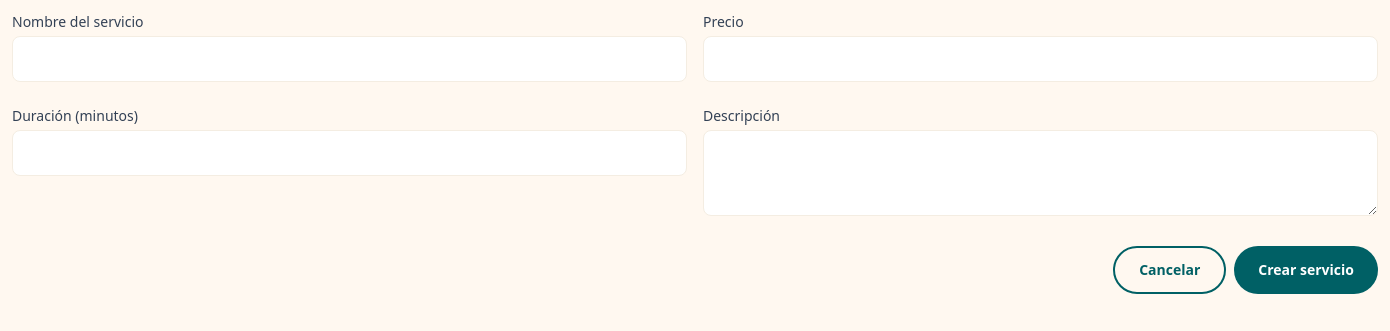
Scenario: ServiceForm › shows validation errors for empty required fields
Click the button "Crear servicio": (1306, 270) [1234,246,1378,294]
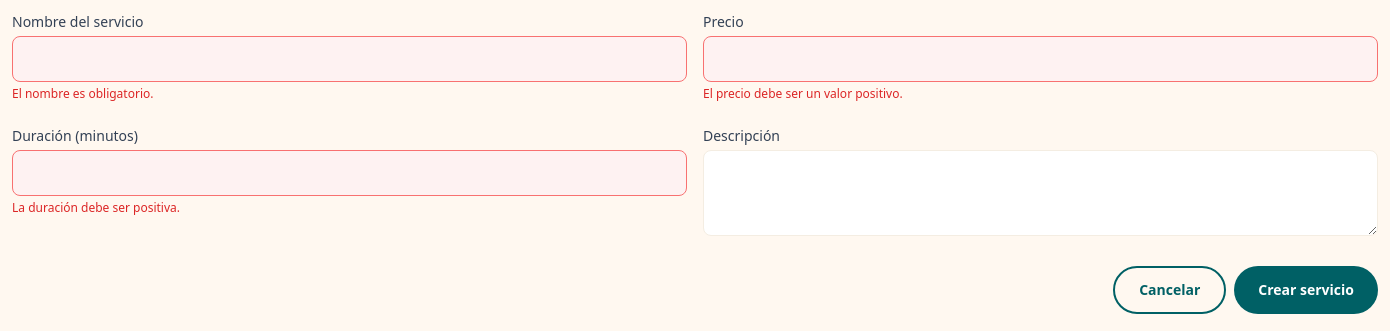
Expected: the text "El nombre es obligatorio." is shown, [12,85,154,102]
Expected: the text "El precio debe ser un valor positivo." is shown, [703,85,903,102]
